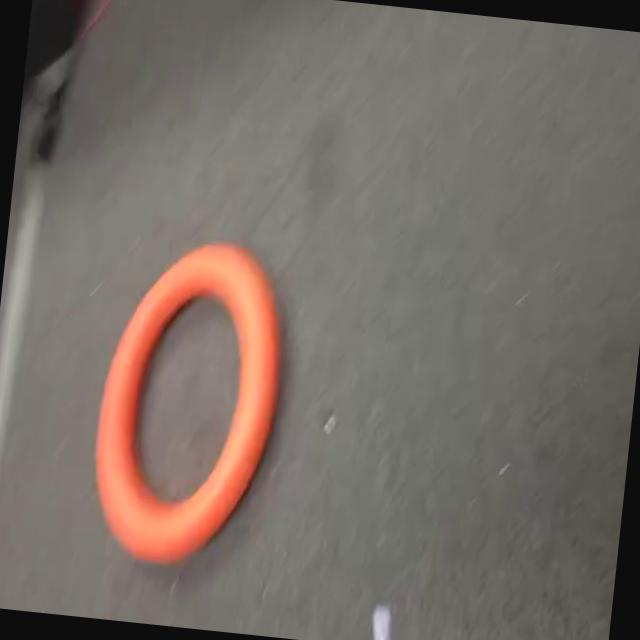note: (74, 220, 303, 578)
